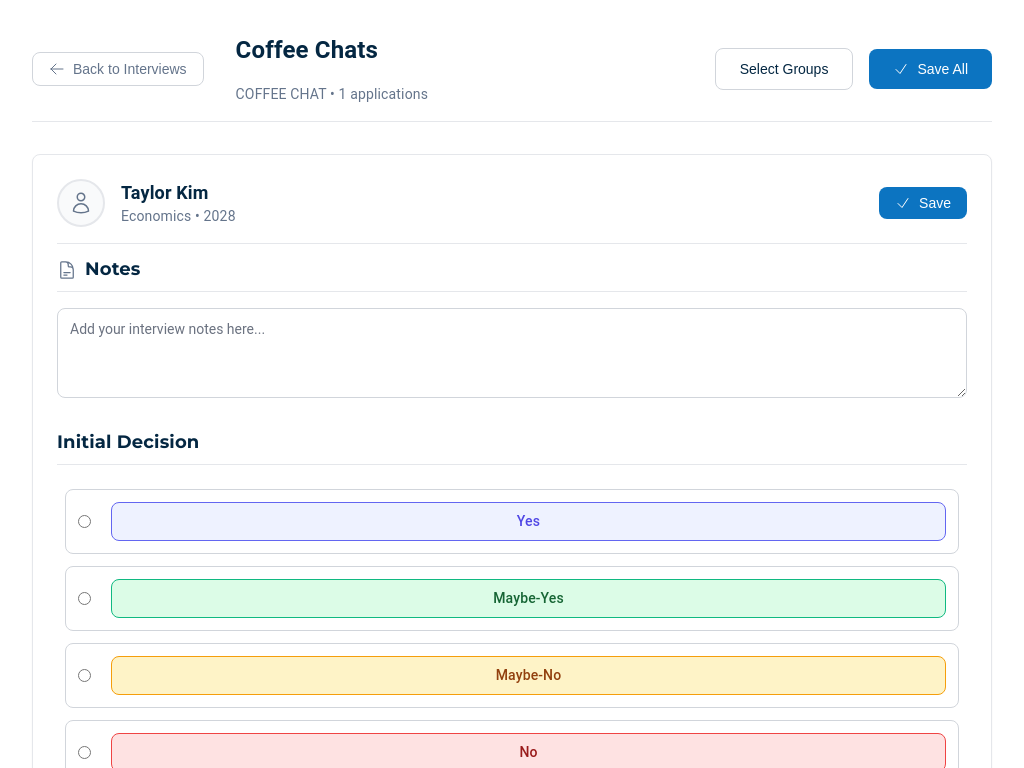
Test case: InterviewInterface (admin) › offers every session under Interview Another Group
The width and height of the screenshot is (1024, 768).
Expected: the heading "Taylor Kim" is shown, left=121, top=182, right=208, bottom=203
Click the button "Save All" at (931, 68), box left=869, top=48, right=992, bottom=88
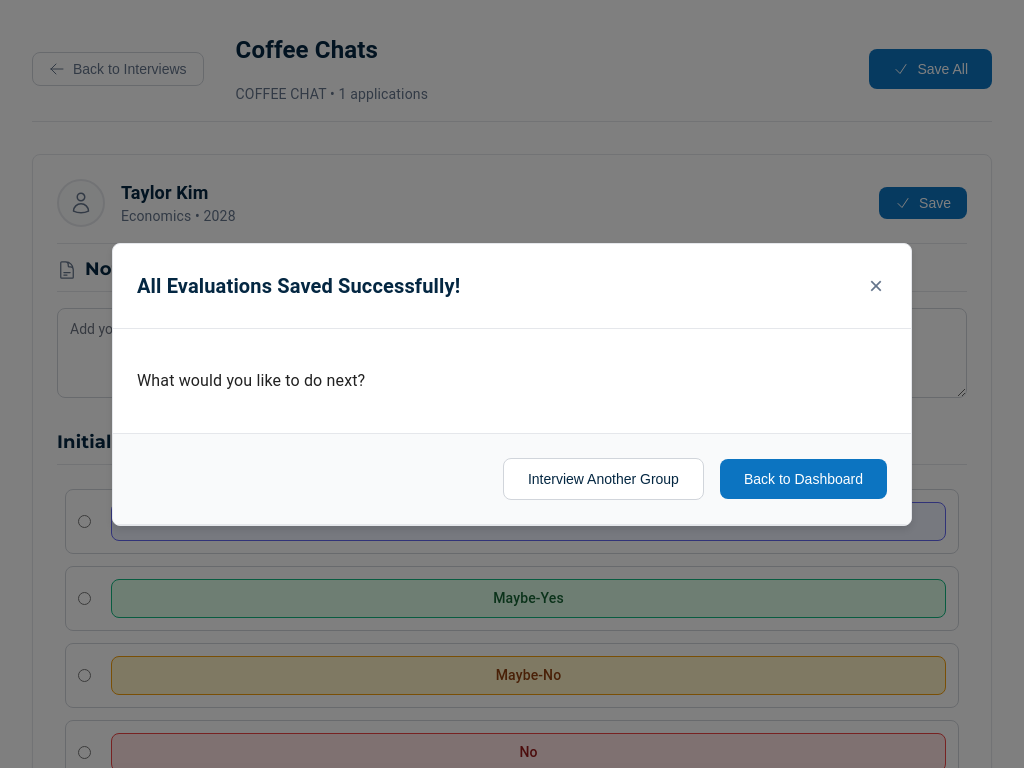
Click the button "Interview Another Group" at (603, 478), box left=503, top=458, right=704, bottom=500
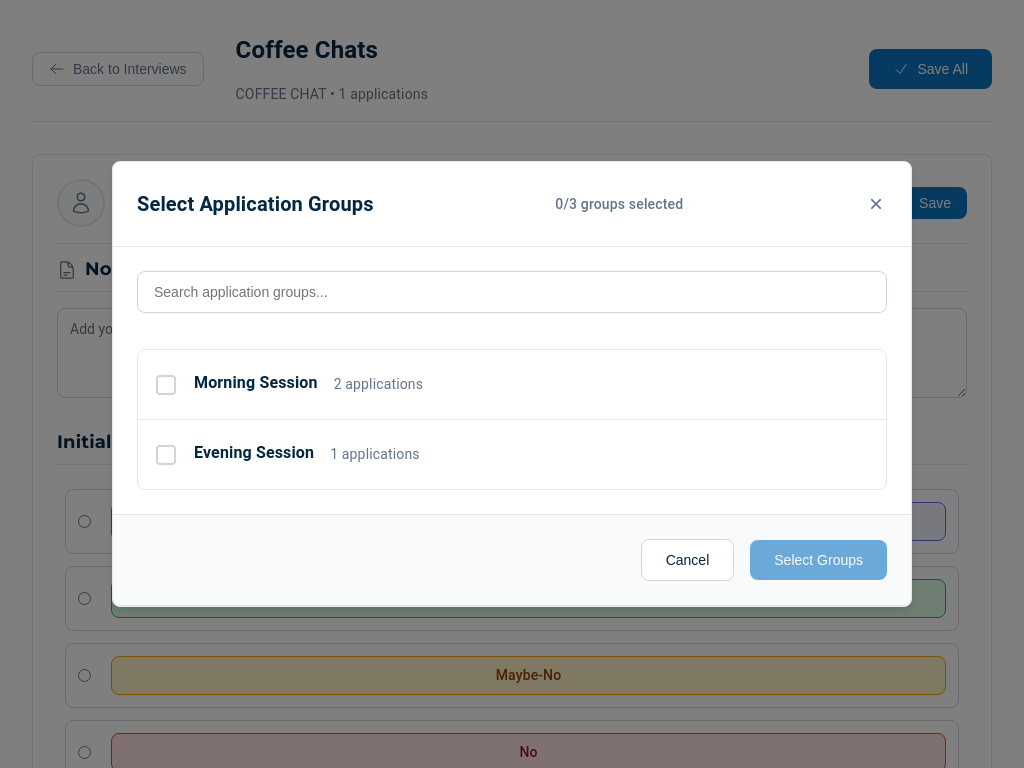
Expected: the heading "Morning Session" is shown, left=194, top=370, right=318, bottom=394
Expected: the heading "Evening Session" is shown, left=194, top=440, right=314, bottom=464
